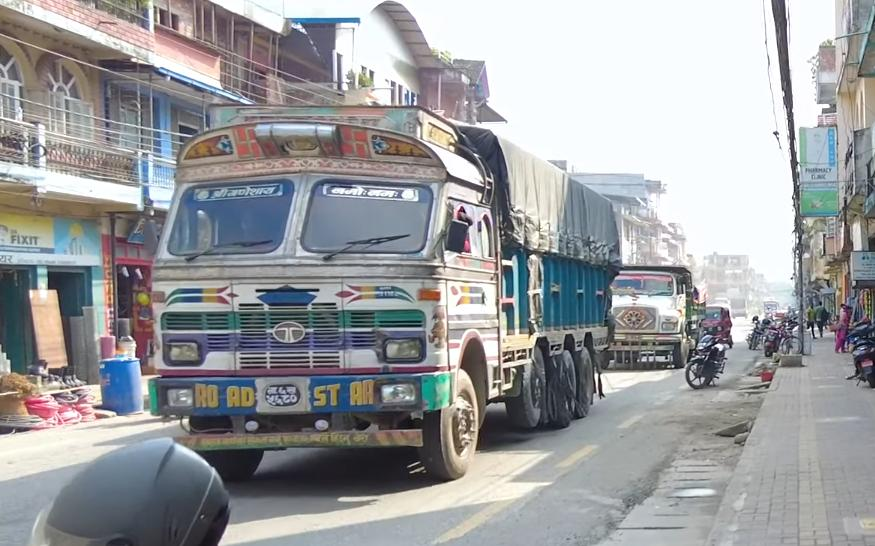auto_rickshaw: (693, 302, 735, 350)
bike: (681, 332, 730, 392)
scooter: (840, 314, 875, 393)
truck: (147, 102, 623, 481), (605, 264, 700, 369)
